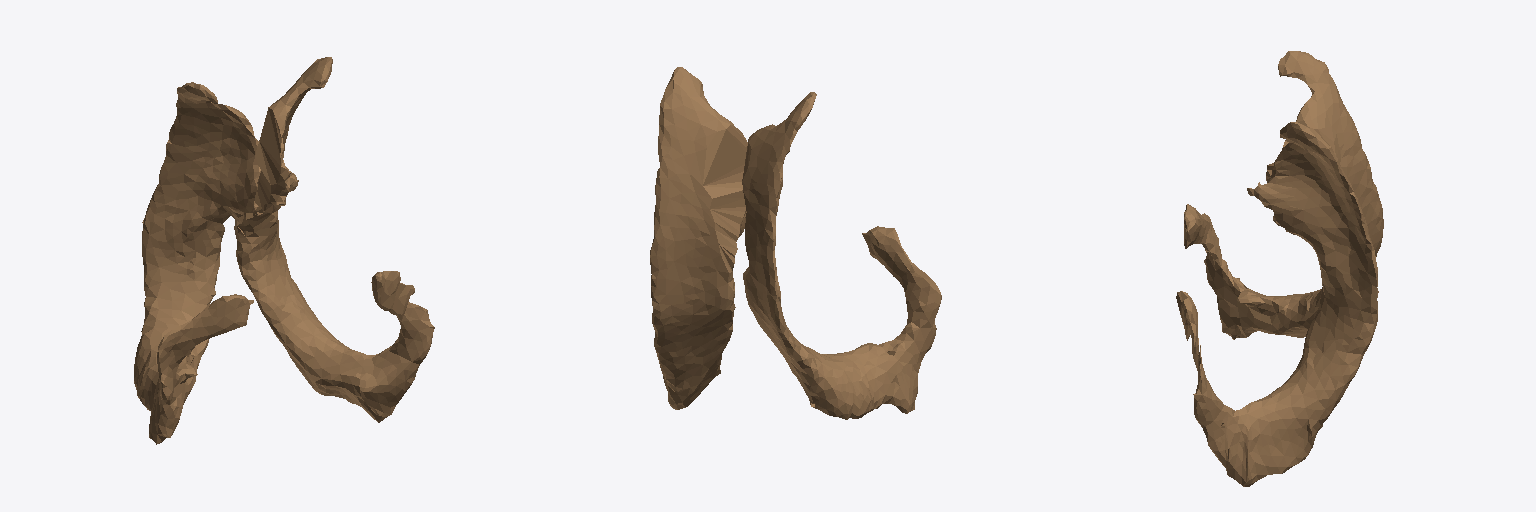
The model's file is lateral_ventricles.obj.
The picture shows the model from 3 angles: view 1: azimuth 30°, elevation 25°; view 2: azimuth 150°, elevation 25°; view 3: azimuth 270°, elevation 25°; orthographic projection.
Visible parts, largest first — view 1: Lateral_Ventricles_lateral_ventricles; view 2: Lateral_Ventricles_lateral_ventricles; view 3: Lateral_Ventricles_lateral_ventricles.
Boxes of the visible parts, box(x1,y1,x2,y2) form: Lateral_Ventricles_lateral_ventricles: box(134, 57, 434, 444); Lateral_Ventricles_lateral_ventricles: box(650, 67, 941, 419); Lateral_Ventricles_lateral_ventricles: box(1176, 51, 1383, 486).
Bounding box in the file's own units: 186 × 236 × 124.